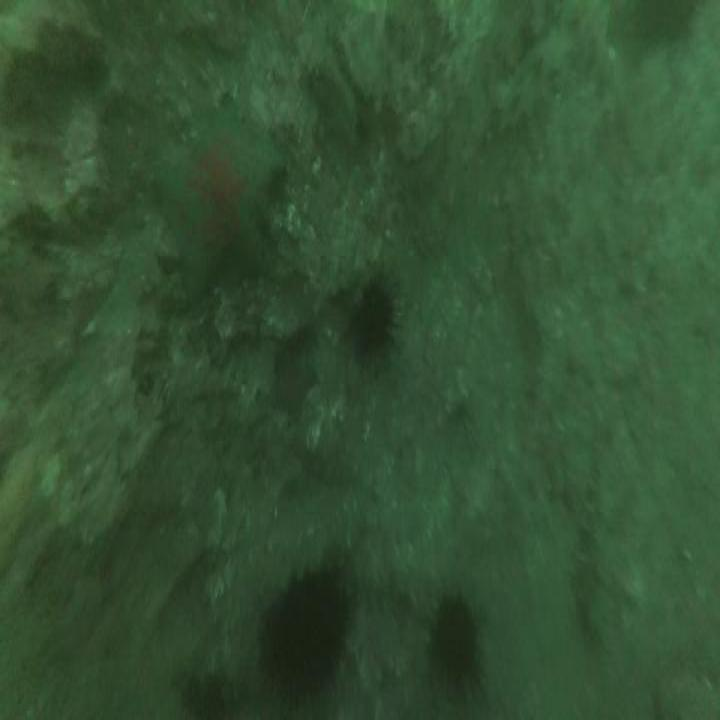echinus: (261, 566, 346, 702), (431, 594, 478, 682), (347, 277, 395, 363)
holothurian: (577, 462, 617, 649)
starfish: (153, 103, 281, 293), (270, 346, 314, 418)
